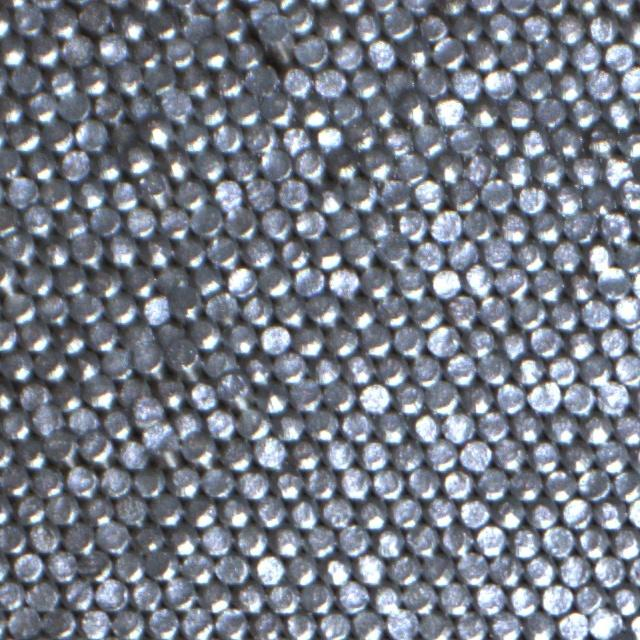tool: (200, 463, 235, 498), (432, 36, 467, 70), (304, 465, 338, 499), (428, 264, 462, 298), (406, 465, 440, 499), (12, 2, 46, 36), (10, 60, 44, 94), (463, 206, 497, 240), (331, 37, 365, 71), (150, 492, 184, 526), (235, 522, 269, 556), (308, 292, 342, 326), (534, 94, 568, 128), (2, 288, 36, 322), (214, 4, 248, 38), (292, 262, 326, 296), (262, 90, 296, 124), (3, 230, 37, 264), (80, 0, 114, 34), (378, 179, 412, 213), (274, 292, 308, 326), (190, 204, 224, 238), (381, 64, 415, 98), (0, 348, 34, 382), (444, 351, 478, 385), (97, 518, 131, 552), (92, 88, 126, 122), (80, 548, 114, 582), (168, 342, 202, 376), (277, 236, 311, 269), (392, 322, 425, 356), (429, 207, 462, 241), (586, 11, 620, 44), (339, 465, 372, 499), (28, 31, 61, 65), (237, 466, 270, 500), (568, 94, 602, 127), (231, 37, 265, 70), (216, 550, 249, 584), (65, 462, 98, 496), (441, 522, 474, 556), (390, 494, 423, 528), (34, 346, 68, 379), (391, 437, 424, 471), (586, 66, 619, 100), (458, 495, 492, 528), (484, 66, 517, 100), (254, 494, 288, 527), (518, 10, 552, 43), (595, 381, 629, 414), (359, 321, 392, 355), (377, 235, 411, 268), (562, 381, 596, 414), (569, 37, 602, 71), (531, 267, 565, 300), (406, 522, 439, 556), (161, 88, 194, 122), (376, 292, 410, 325), (164, 574, 197, 608), (200, 522, 234, 555), (527, 379, 561, 412), (481, 178, 515, 211), (206, 290, 240, 323), (356, 496, 389, 530), (167, 463, 200, 497), (457, 550, 490, 584), (427, 323, 461, 356), (535, 38, 568, 72), (439, 580, 472, 614), (446, 292, 479, 326), (112, 606, 146, 639), (122, 263, 156, 296), (342, 296, 376, 329), (480, 294, 513, 328), (533, 152, 567, 185), (24, 147, 58, 180), (496, 264, 529, 298), (218, 437, 252, 470), (375, 352, 408, 386), (445, 236, 479, 269), (321, 494, 354, 528), (219, 494, 252, 528), (70, 232, 104, 265), (395, 264, 428, 298), (500, 38, 533, 72), (46, 431, 79, 465), (204, 347, 238, 380), (447, 178, 481, 211), (182, 606, 215, 640), (550, 123, 584, 156), (46, 2, 79, 36), (138, 171, 171, 205), (252, 4, 285, 38), (45, 548, 78, 582), (95, 576, 128, 610), (409, 352, 442, 386), (399, 94, 432, 128), (196, 35, 229, 69), (44, 604, 77, 638), (123, 144, 156, 178), (340, 408, 373, 441), (442, 409, 475, 442), (579, 411, 612, 444), (338, 522, 371, 555), (327, 265, 360, 298), (255, 435, 288, 468), (358, 381, 391, 414), (477, 408, 510, 441), (382, 6, 415, 39), (115, 492, 148, 525), (225, 265, 258, 298), (61, 32, 94, 65), (580, 295, 613, 328), (14, 435, 47, 468), (516, 181, 549, 214), (545, 411, 578, 444), (515, 239, 548, 272), (392, 381, 425, 414), (411, 294, 444, 327), (360, 265, 393, 298), (238, 407, 271, 440), (29, 519, 62, 552), (241, 293, 274, 326), (306, 407, 339, 440), (89, 263, 122, 296), (467, 37, 500, 70), (38, 235, 71, 268), (552, 11, 585, 44), (416, 65, 449, 98), (81, 431, 114, 464), (190, 262, 223, 295), (388, 552, 421, 585), (593, 553, 626, 586), (519, 67, 552, 100), (216, 607, 249, 640), (155, 260, 188, 293), (260, 206, 293, 239), (568, 153, 601, 186), (180, 64, 213, 97), (475, 466, 508, 499), (100, 406, 133, 439), (182, 550, 215, 583), (167, 523, 200, 556), (37, 291, 70, 324), (177, 119, 210, 152), (294, 206, 327, 239), (185, 495, 218, 528), (59, 147, 92, 180), (325, 323, 358, 356), (342, 232, 375, 265), (211, 177, 244, 210), (416, 12, 449, 45), (414, 122, 447, 155), (54, 321, 87, 354), (277, 177, 310, 210), (13, 491, 46, 524), (78, 606, 111, 639), (133, 521, 166, 554), (296, 34, 329, 67), (47, 491, 80, 524), (404, 580, 437, 613), (386, 607, 419, 640), (448, 122, 481, 155), (342, 351, 375, 384), (327, 147, 360, 180), (464, 325, 497, 358), (175, 177, 208, 210), (558, 553, 591, 586), (8, 603, 41, 636), (451, 9, 484, 42), (41, 177, 74, 210), (579, 469, 612, 502), (323, 379, 356, 412), (21, 262, 54, 295), (260, 146, 293, 179), (546, 353, 579, 386), (179, 6, 212, 39), (70, 289, 103, 322), (599, 210, 632, 243), (160, 147, 193, 180), (246, 62, 279, 95), (12, 548, 44, 582), (480, 236, 514, 268), (530, 210, 564, 242), (463, 262, 495, 296), (290, 436, 322, 470), (78, 62, 110, 96), (75, 118, 109, 150), (226, 206, 260, 238), (258, 263, 290, 297), (104, 291, 138, 323), (344, 118, 378, 150), (62, 521, 96, 553), (374, 410, 408, 442), (228, 92, 262, 124), (594, 440, 628, 472), (131, 576, 163, 610), (576, 524, 608, 558), (361, 145, 393, 179), (6, 173, 38, 207), (602, 40, 636, 72), (585, 122, 617, 156), (464, 151, 498, 183), (344, 177, 378, 209), (136, 415, 170, 447), (549, 238, 581, 272), (146, 548, 180, 580), (366, 36, 398, 69), (528, 442, 561, 474), (442, 466, 474, 499), (412, 238, 445, 270), (508, 582, 540, 615), (282, 65, 314, 98), (494, 437, 526, 470), (87, 318, 119, 351), (112, 59, 144, 92), (364, 92, 397, 124), (314, 65, 346, 98), (133, 465, 166, 497), (484, 10, 517, 42), (31, 464, 64, 496), (564, 207, 596, 240), (561, 495, 594, 527), (26, 90, 59, 122), (495, 380, 527, 413), (116, 436, 149, 468), (242, 234, 275, 266), (211, 120, 244, 152), (316, 7, 348, 40), (174, 234, 207, 266), (58, 89, 91, 121), (107, 232, 139, 265), (433, 94, 466, 126), (304, 524, 337, 556), (330, 93, 363, 125), (462, 381, 494, 414), (530, 324, 562, 357), (62, 577, 94, 610), (589, 606, 621, 639), (208, 234, 240, 267), (354, 551, 386, 584), (204, 406, 237, 438), (287, 552, 319, 585), (254, 552, 286, 585), (140, 235, 173, 267), (268, 581, 300, 614), (510, 468, 542, 501), (547, 297, 579, 330), (102, 347, 135, 379), (514, 295, 546, 328), (90, 204, 123, 236), (565, 269, 597, 302), (412, 178, 445, 210), (311, 237, 343, 270), (243, 121, 276, 153), (184, 432, 216, 465), (290, 378, 322, 411), (190, 317, 223, 349), (193, 146, 225, 179), (160, 205, 192, 238), (324, 437, 356, 470), (54, 262, 87, 294), (422, 553, 455, 585), (8, 119, 41, 151), (27, 578, 60, 610), (426, 381, 458, 414), (425, 438, 457, 471), (250, 608, 283, 640), (362, 207, 394, 240), (491, 553, 524, 585), (396, 207, 428, 240), (274, 350, 306, 383), (42, 118, 75, 150), (134, 343, 166, 376), (497, 210, 530, 242), (474, 522, 506, 555), (501, 95, 533, 128), (580, 353, 612, 386), (312, 180, 344, 213), (270, 524, 302, 557), (484, 123, 516, 156), (372, 466, 404, 499), (516, 125, 549, 157), (142, 116, 175, 148), (348, 66, 381, 98), (224, 320, 256, 353), (543, 469, 576, 501), (552, 68, 584, 101), (301, 580, 333, 613), (500, 153, 532, 186), (551, 182, 584, 214), (200, 581, 233, 613), (156, 374, 188, 407), (19, 318, 52, 350), (473, 582, 506, 614), (450, 66, 482, 99), (96, 32, 129, 64), (244, 177, 277, 209), (309, 352, 342, 384), (170, 288, 203, 320), (602, 154, 635, 186), (242, 352, 274, 385), (433, 150, 465, 183), (395, 151, 428, 183), (398, 36, 431, 68), (597, 265, 630, 297), (121, 319, 153, 352), (556, 609, 590, 640), (284, 609, 318, 640), (142, 61, 176, 92), (419, 610, 454, 640), (542, 524, 574, 556), (100, 464, 132, 496), (460, 438, 492, 470), (289, 496, 321, 528), (292, 323, 324, 355), (358, 438, 390, 470), (125, 205, 157, 237), (313, 120, 345, 152), (318, 608, 350, 640), (509, 525, 541, 557), (541, 581, 573, 613), (259, 322, 291, 354), (597, 324, 629, 356), (164, 34, 196, 66), (284, 3, 316, 35), (139, 292, 171, 324), (82, 493, 114, 525), (352, 608, 384, 640), (328, 206, 360, 238), (114, 550, 146, 582), (213, 65, 245, 97), (468, 96, 500, 128), (57, 206, 89, 238), (410, 411, 442, 443), (584, 184, 616, 216), (604, 96, 636, 128), (512, 410, 544, 442), (116, 8, 148, 40), (562, 441, 594, 473), (280, 122, 312, 154), (108, 178, 140, 210), (75, 178, 107, 210), (22, 203, 54, 235), (84, 374, 116, 406), (494, 497, 526, 529), (294, 148, 326, 180), (527, 496, 559, 528), (564, 326, 596, 358), (227, 149, 259, 181), (524, 554, 556, 586), (258, 382, 290, 414), (147, 606, 179, 638), (424, 494, 456, 526), (127, 88, 159, 120), (370, 581, 402, 613), (382, 124, 414, 156), (234, 580, 266, 612), (478, 352, 510, 384), (349, 9, 381, 41), (336, 580, 368, 612), (115, 374, 147, 406), (372, 526, 404, 558), (298, 94, 330, 126), (576, 582, 608, 614), (67, 403, 99, 435), (46, 64, 78, 96), (33, 404, 65, 436), (498, 326, 530, 358), (146, 8, 178, 40), (52, 379, 84, 411), (272, 468, 304, 500), (90, 149, 122, 181), (273, 408, 305, 440), (268, 32, 300, 64), (156, 318, 188, 350), (16, 379, 49, 410), (196, 93, 227, 126), (224, 380, 257, 411), (454, 610, 488, 640), (0, 408, 31, 440), (108, 117, 139, 149), (131, 36, 162, 68), (585, 243, 617, 274), (152, 438, 184, 469), (321, 554, 353, 585), (514, 354, 546, 385), (70, 350, 102, 381), (490, 610, 523, 640), (0, 462, 30, 495), (610, 583, 640, 616), (188, 378, 219, 409), (170, 408, 201, 439), (610, 526, 640, 558), (594, 498, 626, 528), (130, 394, 162, 424), (523, 611, 556, 640), (611, 469, 640, 502), (0, 520, 28, 553), (613, 352, 640, 386), (0, 33, 28, 65), (613, 411, 640, 444), (0, 92, 27, 125), (614, 294, 640, 327), (0, 578, 26, 610), (617, 178, 640, 211), (617, 238, 640, 270), (0, 145, 21, 178), (0, 203, 21, 236), (619, 127, 640, 160), (620, 64, 640, 98), (0, 316, 19, 351), (621, 14, 640, 46), (0, 258, 18, 290), (0, 378, 17, 410), (602, 0, 636, 14), (500, 0, 534, 14), (0, 434, 14, 466), (334, 0, 366, 14), (436, 0, 468, 14), (466, 0, 499, 13), (0, 491, 12, 524)
